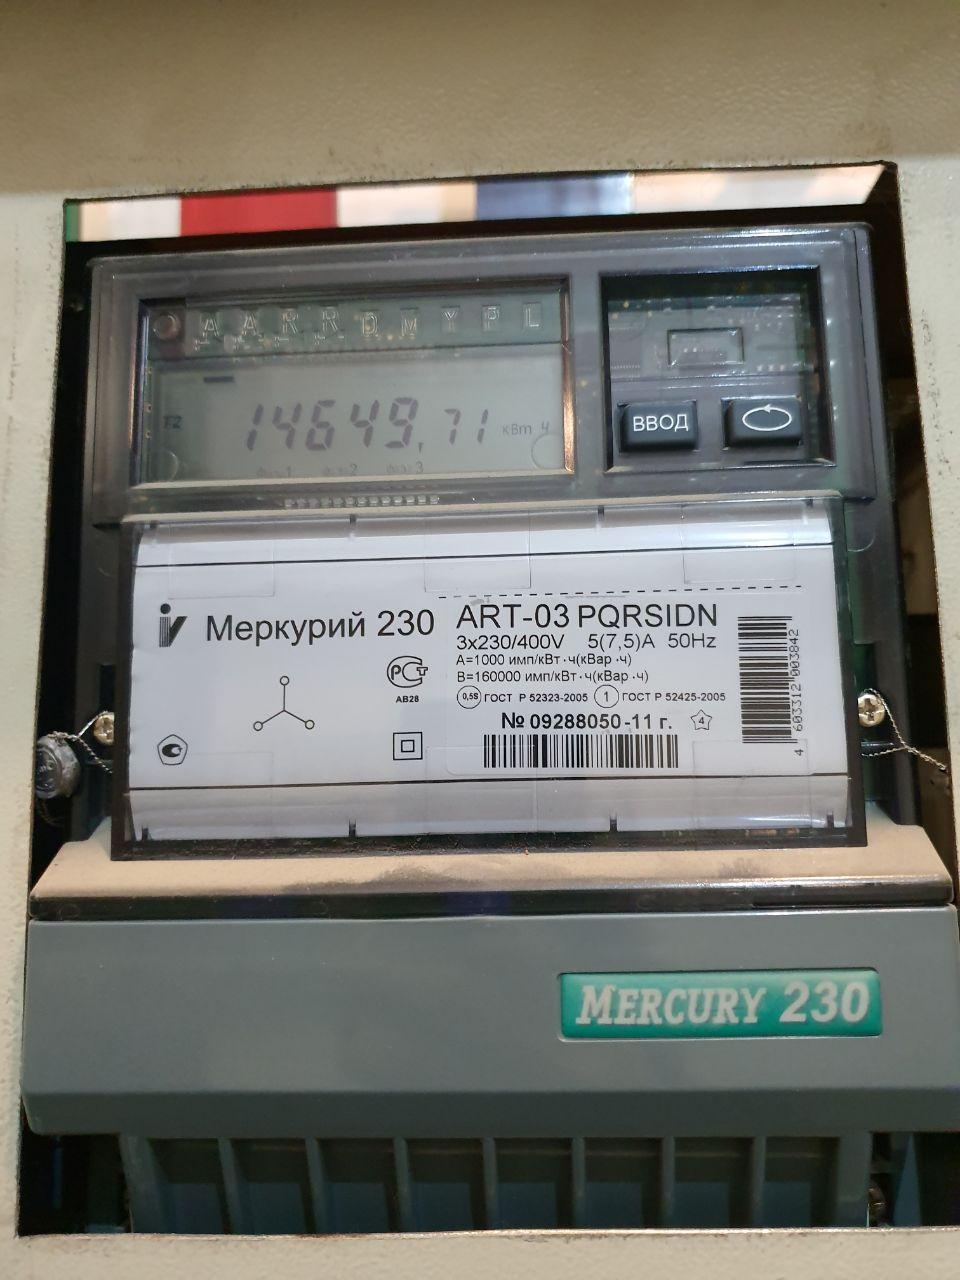counter: (50, 222, 950, 1209)
counter_screen: (147, 336, 579, 485)
